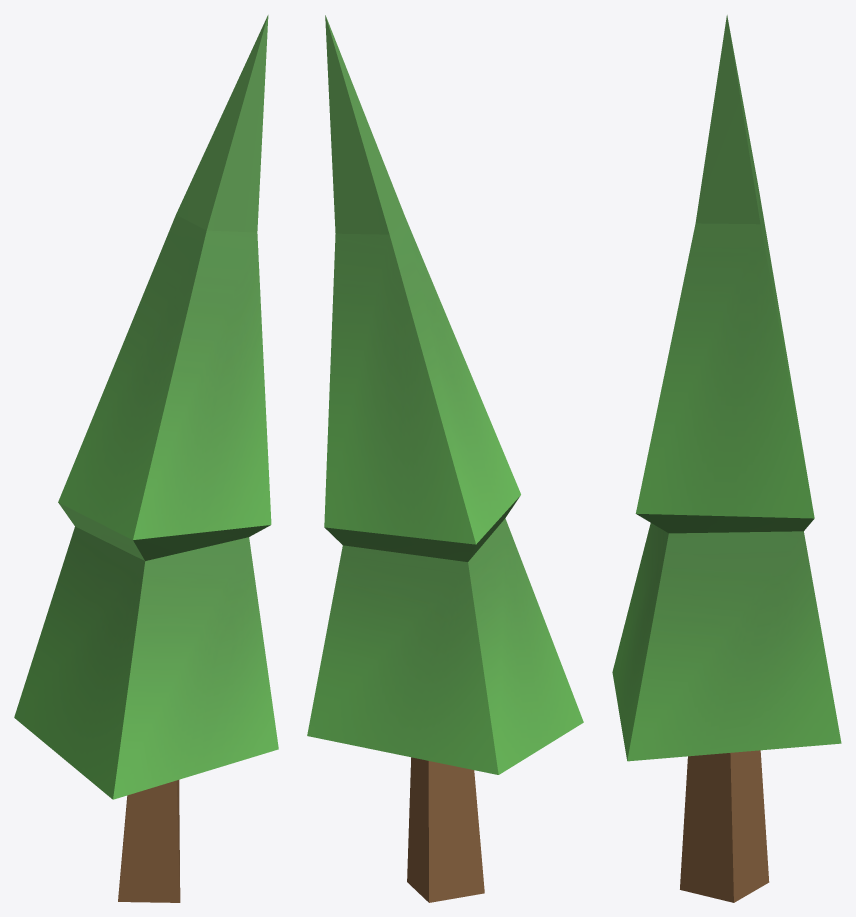
Rendered from Fir_Tree_s_09.fbx.
3 views of the same model, side by side, from view 1: azimuth 30°, elevation 25°; view 2: azimuth 150°, elevation 25°; view 3: azimuth 270°, elevation 25° (orthographic). The views are drawn at different scales.
Visible parts, largest first — view 1: Fir_Tree_s_09; view 2: Fir_Tree_s_09; view 3: Fir_Tree_s_09.
Part boxes in pixels (bbox=[...]): Fir_Tree_s_09: bbox=[14, 15, 278, 902]; Fir_Tree_s_09: bbox=[307, 15, 583, 902]; Fir_Tree_s_09: bbox=[612, 15, 841, 902].
Bounding box in the file's own units: 39.87 × 151 × 33.46.
